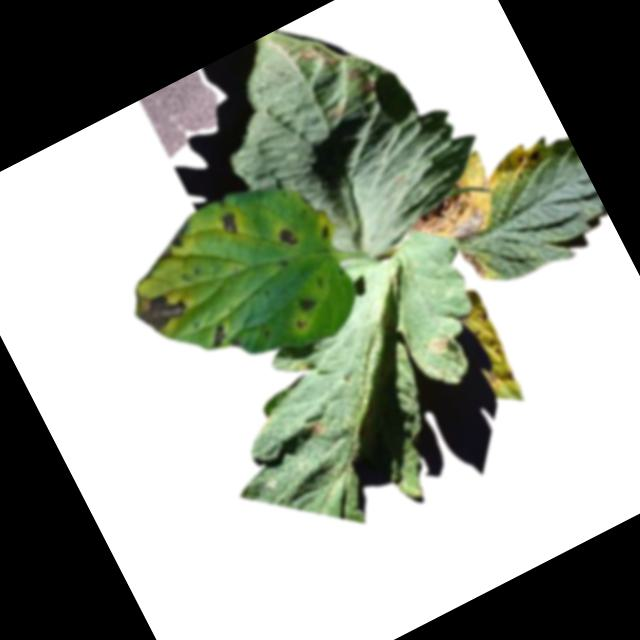Early_blight: (400, 173, 496, 260), (127, 274, 193, 338), (296, 32, 343, 78), (200, 312, 243, 357), (483, 354, 522, 394), (459, 241, 491, 284), (163, 215, 199, 251), (344, 63, 376, 98), (426, 327, 455, 358), (275, 220, 304, 250), (216, 211, 241, 237), (295, 290, 318, 313), (523, 144, 546, 166), (306, 415, 327, 437), (317, 222, 333, 240)
